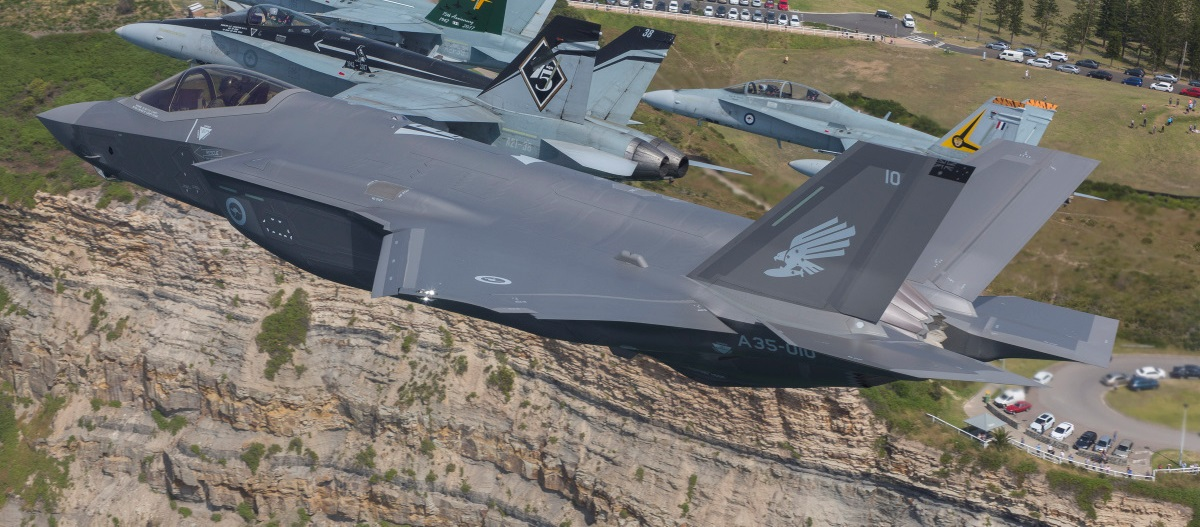F-18: (113, 5, 700, 185), (650, 47, 1015, 179)
F-35 Lightning: (20, 43, 1120, 465)
